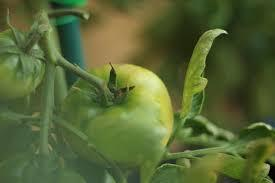Mengkal: (64, 61, 177, 167), (1, 26, 45, 105)
